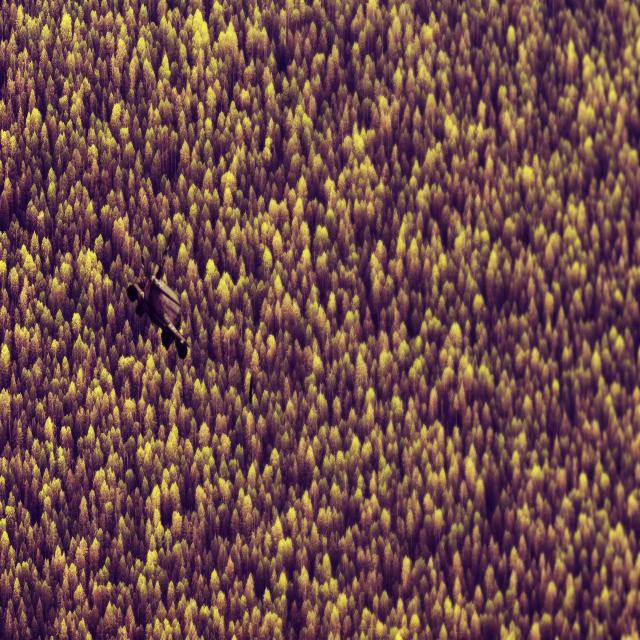airplane: (126, 232, 190, 359)
